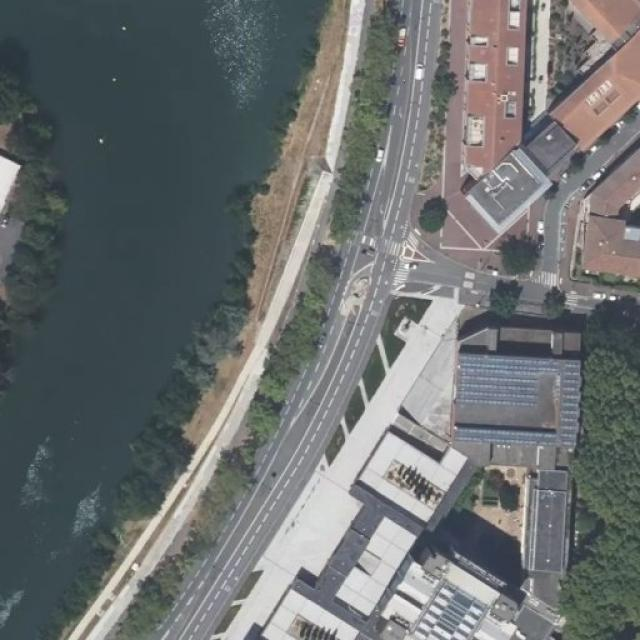immeuble: (455, 24, 639, 228), (448, 0, 532, 188), (582, 154, 640, 281)
usine: (224, 316, 595, 640)
